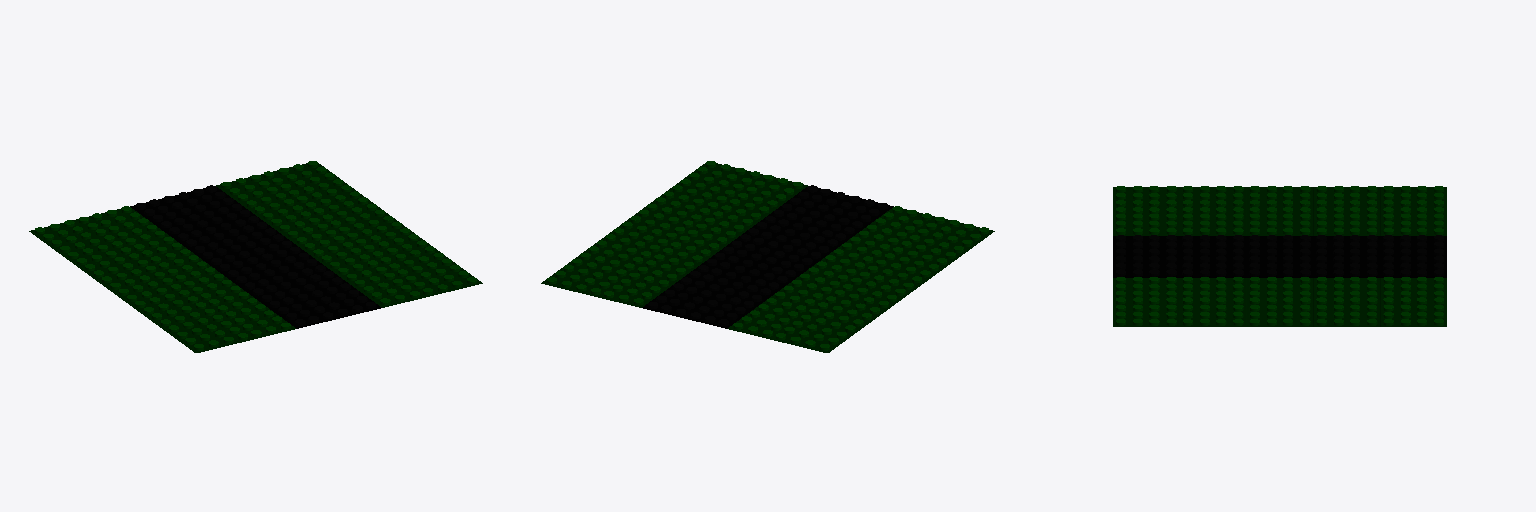
File: asfalto_terreno.obj
The picture shows the model from 3 angles: view 1: azimuth 30°, elevation 25°; view 2: azimuth 150°, elevation 25°; view 3: azimuth 270°, elevation 25°; orthographic projection.
Parts seen in each view (by area): view 1: Cylinder.008, Cylinder.001, Cylinder.000; view 2: Cylinder.008, Cylinder.001, Cylinder.000; view 3: Cylinder.008, Cylinder.001, Cylinder.000.
Boxes of the visible parts, <box> form: Cylinder.008: <box>29,161,482,352</box>; Cylinder.001: <box>136,185,375,325</box>; Cylinder.000: <box>130,187,381,328</box>; Cylinder.008: <box>541,161,994,352</box>; Cylinder.001: <box>648,185,887,325</box>; Cylinder.000: <box>642,187,893,328</box>; Cylinder.008: <box>1113,186,1446,326</box>; Cylinder.001: <box>1116,235,1443,276</box>; Cylinder.000: <box>1113,236,1446,277</box>.
Size of the model in its own units: 17.43 by 0.1873 by 17.58.